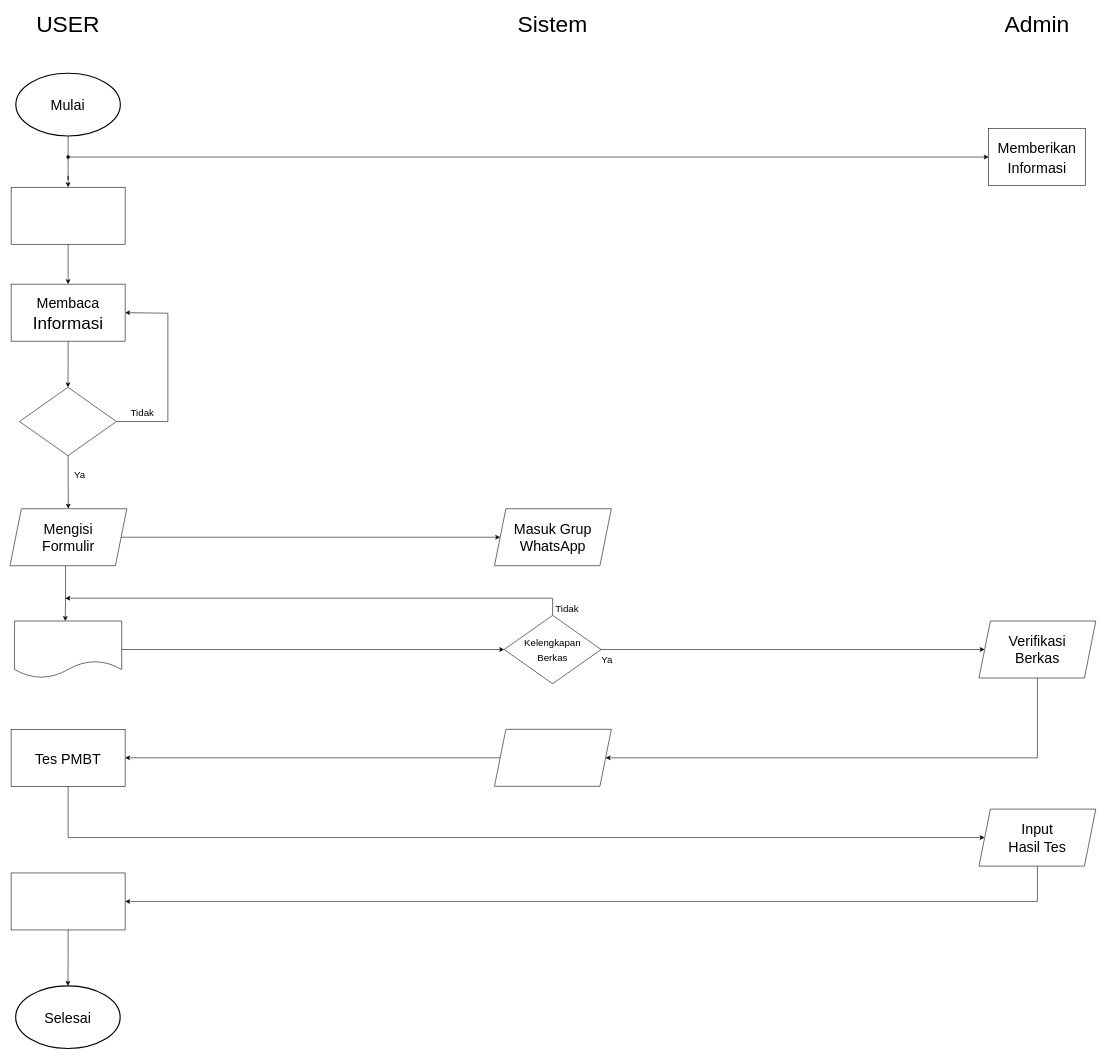
Some shapes in this 1106 by 1058 pixel diagram are drawn without their labels. Each missing label, with the box of its shape:
Lampiran Berkas: (14, 620, 122, 678)
Memahami Informasi: (19, 387, 116, 456)
Membuka Website: (11, 187, 125, 244)
Pengumuman: (11, 872, 125, 930)
Verifikasi Tes: (494, 729, 611, 786)
